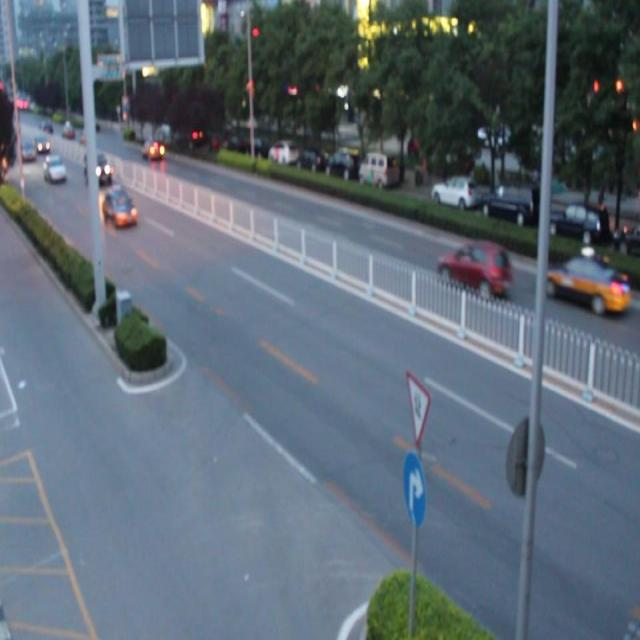car: (537, 258, 626, 316), (437, 250, 506, 296), (102, 192, 135, 224), (86, 156, 111, 185), (142, 143, 164, 163)
